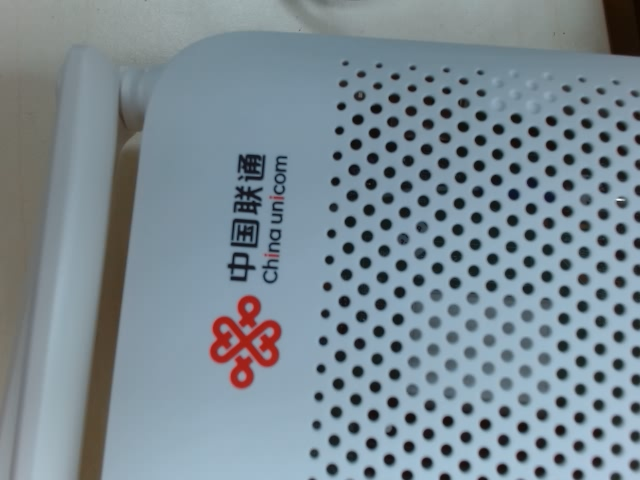ChinaUnicom2: (179, 130, 310, 390)
